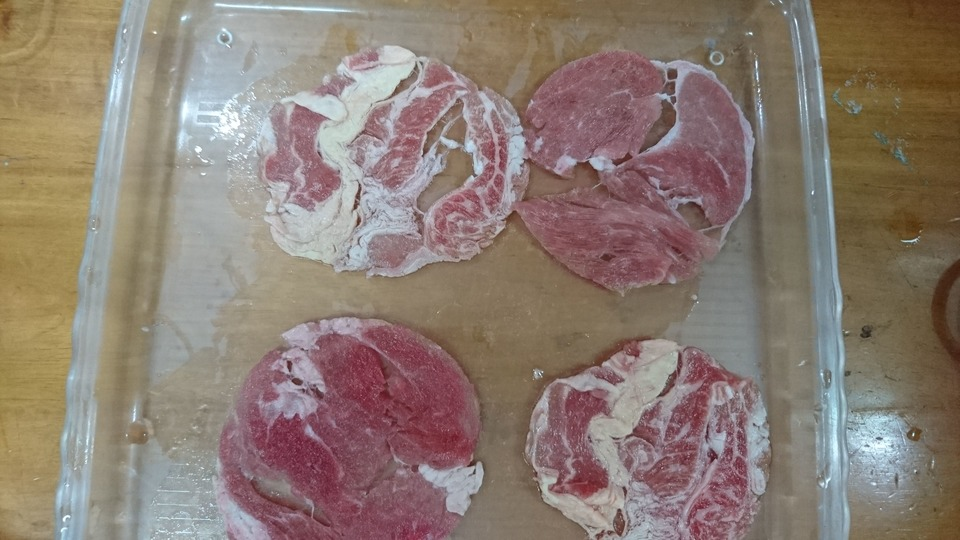restructured meat: (260, 46, 524, 280), (201, 319, 484, 527), (514, 37, 756, 278), (508, 332, 784, 539)
